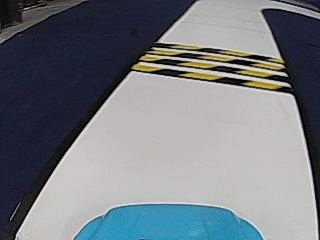bump: (155, 44, 270, 90)
